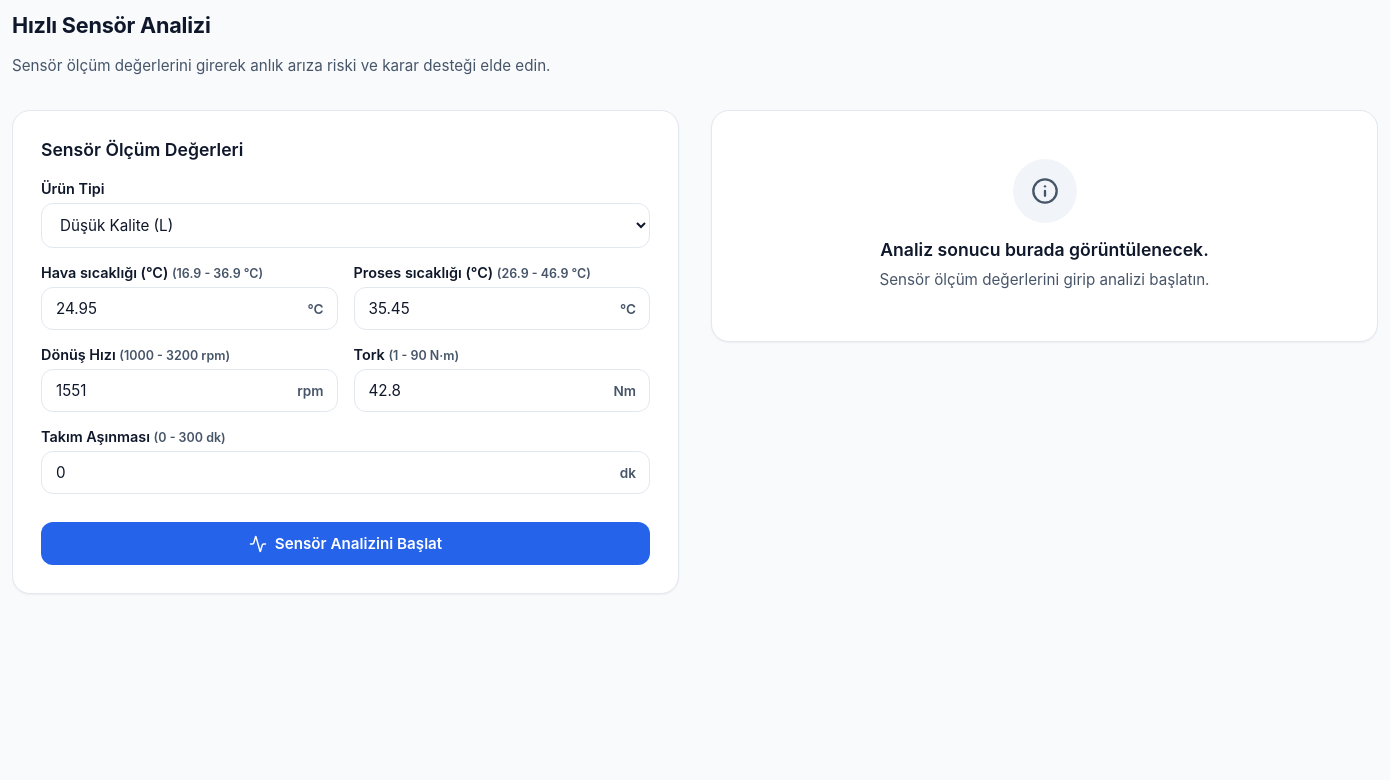
HizliAnaliz › belirsiz fiziksel tip durumunda açıklayıcı mesaj verir
Click the button "Sensör Analizini Başlat" at point(346, 544), box [41,522,650,565]
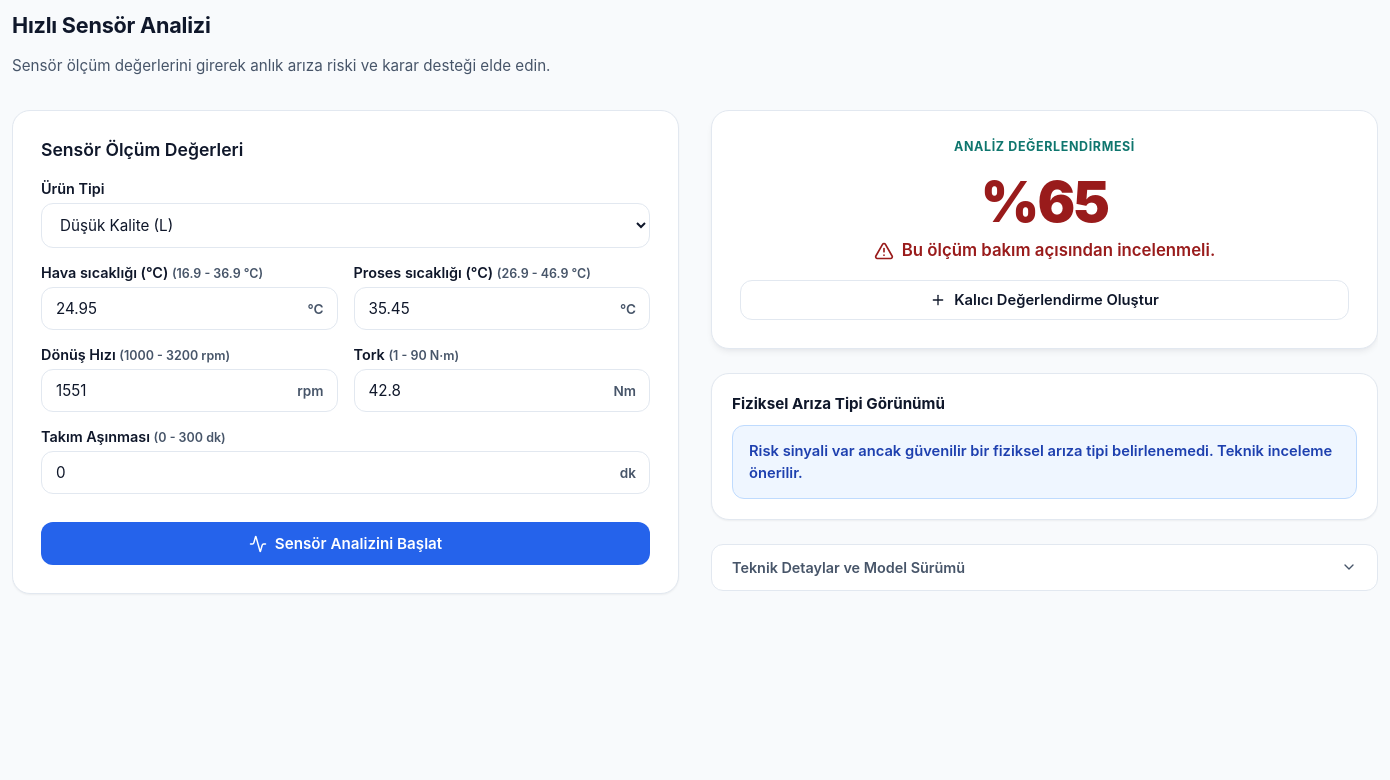
Expected: the text "güvenilir bir fiziksel arıza tipi belirlenemedi" is shown, [749,442,1332,482]
